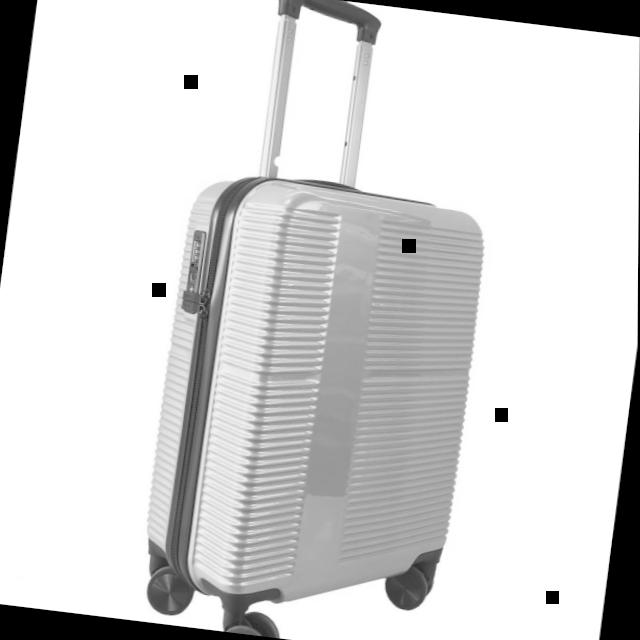luggage: (125, 151, 509, 635)
